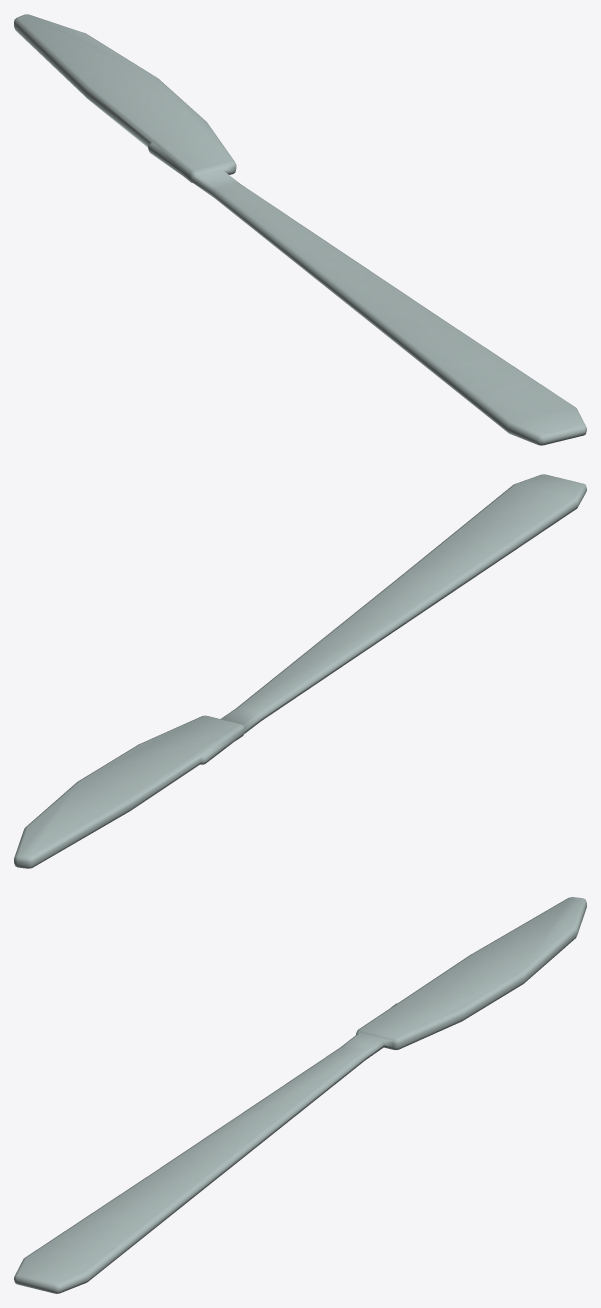
File: 09_Dinner_Knife.fbx
3 views of the same model, one above another, from view 1: azimuth 30°, elevation 25°; view 2: azimuth 150°, elevation 25°; view 3: azimuth 330°, elevation 25° (orthographic). The views are drawn at different scales.
Parts seen in each view (by area): view 1: 09_Dinner_Knife_Mesh; view 2: 09_Dinner_Knife_Mesh; view 3: 09_Dinner_Knife_Mesh.
Part boxes in pixels (<box>): 09_Dinner_Knife_Mesh: <box>14,14,586,445</box>; 09_Dinner_Knife_Mesh: <box>14,474,586,868</box>; 09_Dinner_Knife_Mesh: <box>14,897,586,1293</box>.
Size of the model in its own units: 2.25 by 0.3 by 23.63.
Materials: 1 (1 with a texture image).
